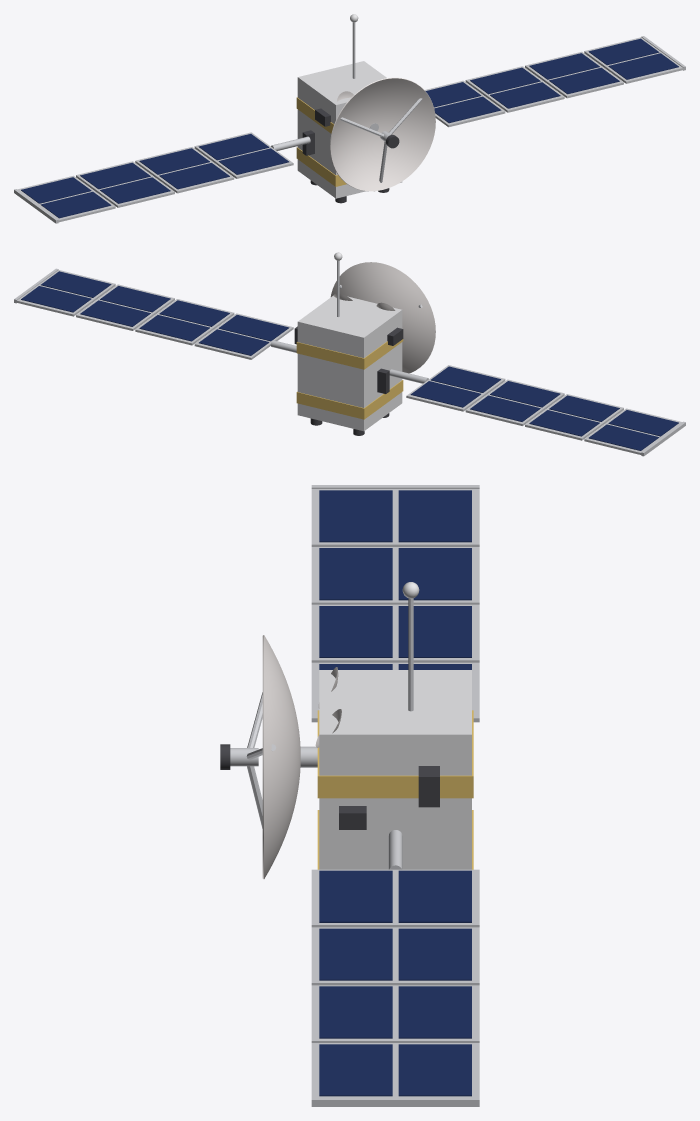
Rendered from satellite.glb.
3 views of the same model, one above another, from view 1: azimuth 30°, elevation 25°; view 2: azimuth 150°, elevation 25°; view 3: azimuth 270°, elevation 25° (orthographic). The views are drawn at different scales.
Parts seen in each view (by area): view 1: SolarWing_L, SolarWing_R, Dish, Bus, Antennas; view 2: Bus, SolarWing_L, SolarWing_R, Dish, Antennas; view 3: SolarWing_R, SolarWing_L, Bus, Dish, Antennas.
Part boxes in pixels (box(x1,y1,x2,y2)): SolarWing_L: box(14, 132, 310, 223); SolarWing_R: box(425, 36, 685, 127); Dish: box(330, 77, 435, 191); Bus: box(296, 61, 402, 203); Antennas: box(337, 14, 358, 101); Bus: box(294, 295, 403, 435); SolarWing_L: box(389, 365, 685, 456); SolarWing_R: box(14, 268, 296, 359); Dish: box(330, 262, 435, 373); Antennas: box(334, 252, 395, 316); SolarWing_R: box(311, 830, 479, 1106); SolarWing_L: box(311, 485, 479, 722); Bus: box(317, 670, 473, 869); Dish: box(220, 635, 317, 879); Antennas: box(315, 582, 419, 747).
Size of the model in its own units: 9.51 by 2.41 by 1.7.
